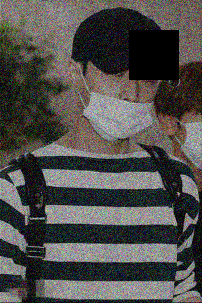mask_weared_incorrect: (79, 65, 159, 140)
